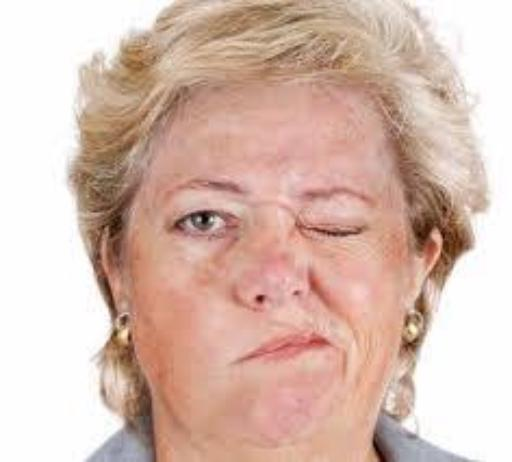left_eye: (302, 226, 369, 247)
left_lip_corner: (315, 335, 345, 356)
right_eye: (171, 211, 244, 242)
right_lip_corner: (223, 350, 261, 370)
